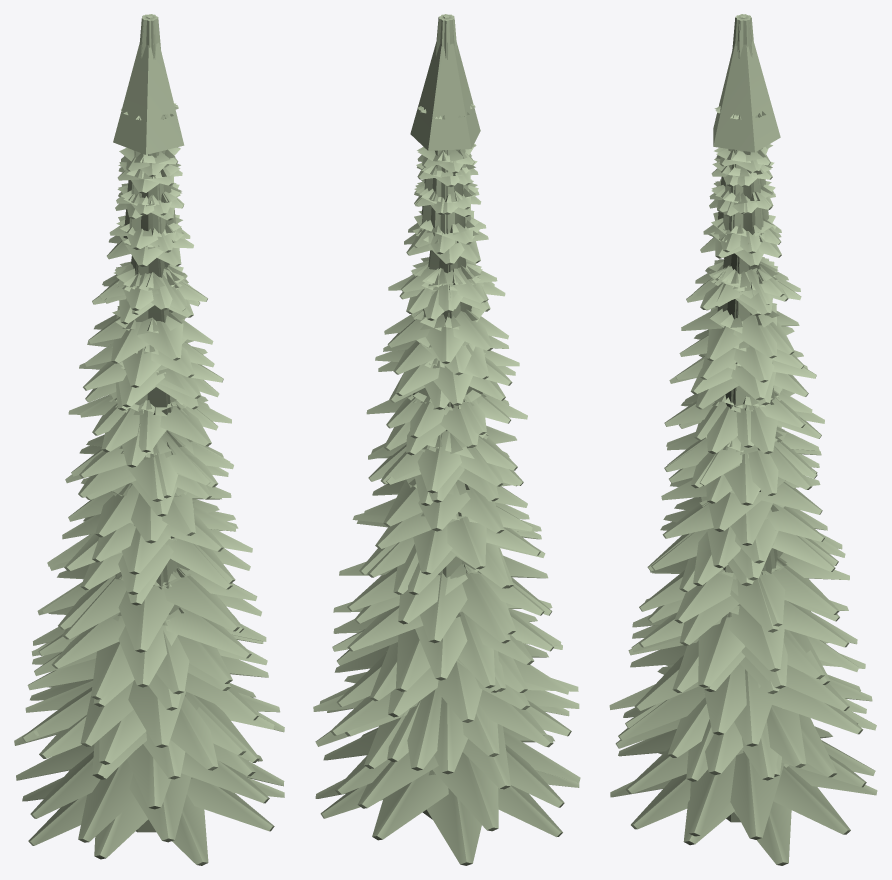
File: tree_spruce.glb
The picture shows the model from 3 angles, left to right: view 1: azimuth 30°, elevation 25°; view 2: azimuth 150°, elevation 25°; view 3: azimuth 270°, elevation 25°; orthographic projection.
Visible parts, largest first — view 1: tier2_foliage, tier1_foliage, tier0_foliage; view 2: tier2_foliage, tier1_foliage, tier0_foliage; view 3: tier2_foliage, tier1_foliage, tier0_foliage.
Part boxes in pixels (x1,y1,x2,y2): tier2_foliage: (14, 14, 280, 809); tier1_foliage: (16, 14, 284, 842); tier0_foliage: (22, 14, 284, 865); tier2_foliage: (313, 14, 579, 789); tier1_foliage: (319, 14, 580, 831); tier0_foliage: (315, 14, 579, 865); tier2_foliage: (615, 14, 876, 777); tier1_foliage: (609, 14, 875, 839); tier0_foliage: (610, 14, 877, 865).
Bounding box in the file's own units: 0.3047 × 1 × 0.3049.
